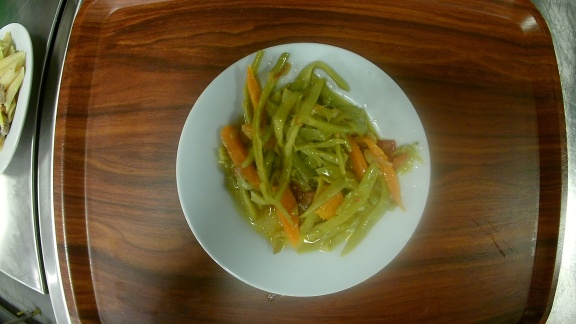tazefasulye: (174, 41, 432, 296)
